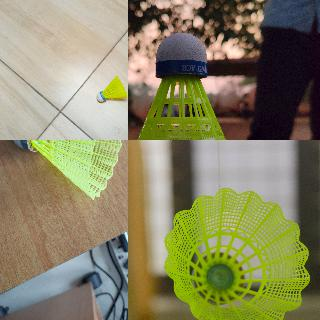shuttlecock: (164, 187, 310, 319), (128, 33, 245, 139), (9, 140, 123, 201), (96, 75, 126, 101)
